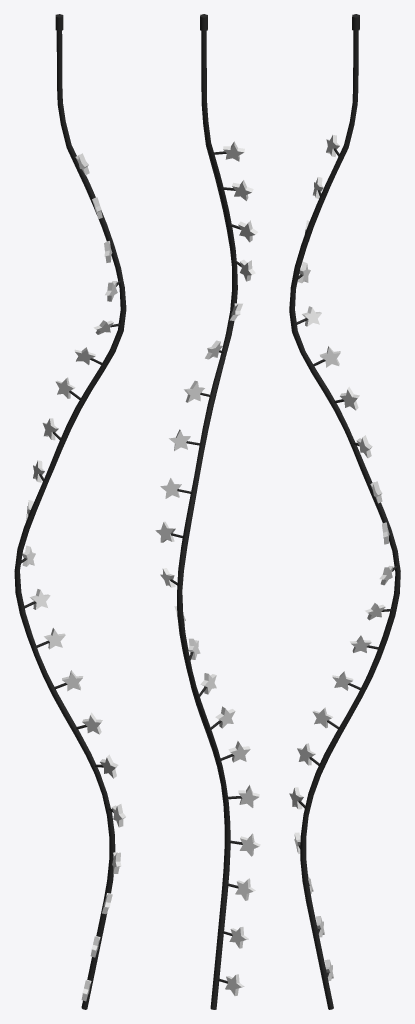
Rendered from ChristmasChainLight_07.fbx.
3 views of the same model, side by side, from view 1: azimuth 90°, elevation 25°; view 2: azimuth 150°, elevation 25°; view 3: azimuth 270°, elevation 25° (orthographic).
Visible parts, largest first — view 1: ChristmasChainLight_07; view 2: ChristmasChainLight_07; view 3: ChristmasChainLight_07.
Boxes of the visible parts, x1,y1,x2,y2 form: ChristmasChainLight_07: [14, 14, 126, 1009]; ChristmasChainLight_07: [155, 14, 260, 1009]; ChristmasChainLight_07: [289, 14, 400, 1009].
Size of the model in its own units: 0.1286 by 1.99 by 0.2031.
